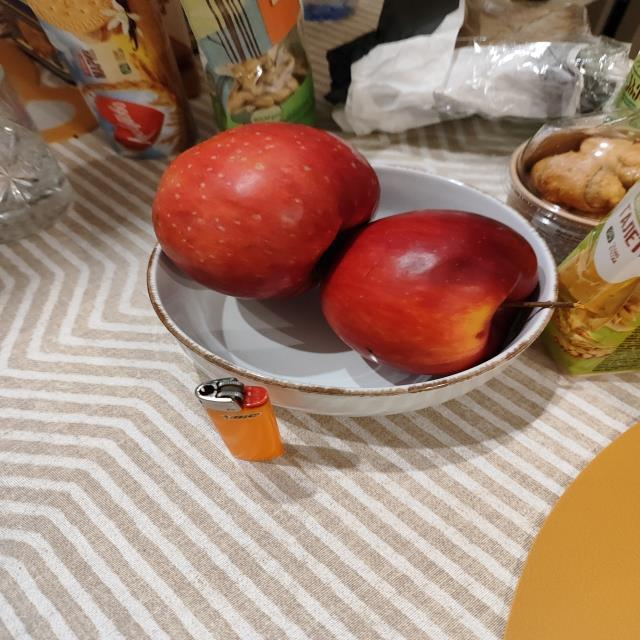lighter: (197, 378, 282, 461)
